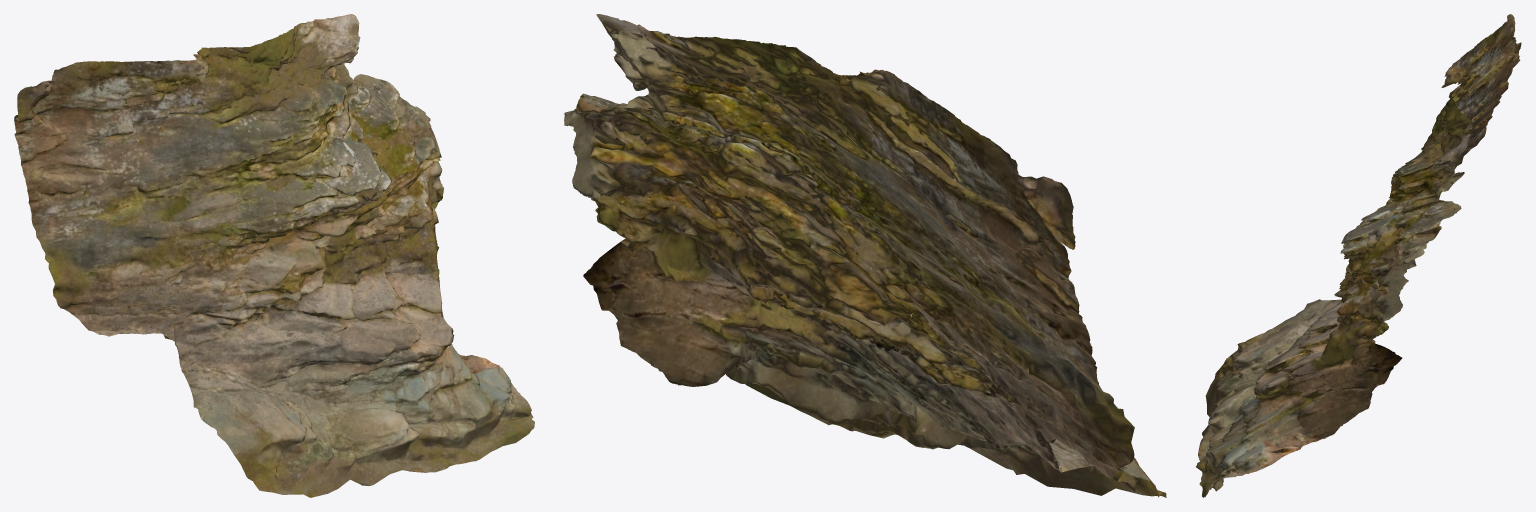
Rendered from rock_face_02.glb.
3 views of the same model, side by side, from view 1: azimuth 30°, elevation 25°; view 2: azimuth 150°, elevation 25°; view 3: azimuth 270°, elevation 25° (orthographic). The views are drawn at different scales.
Size of the model in its own units: 2.71 by 2.47 by 2.13.
Materials: 1 (1 with a texture image).
